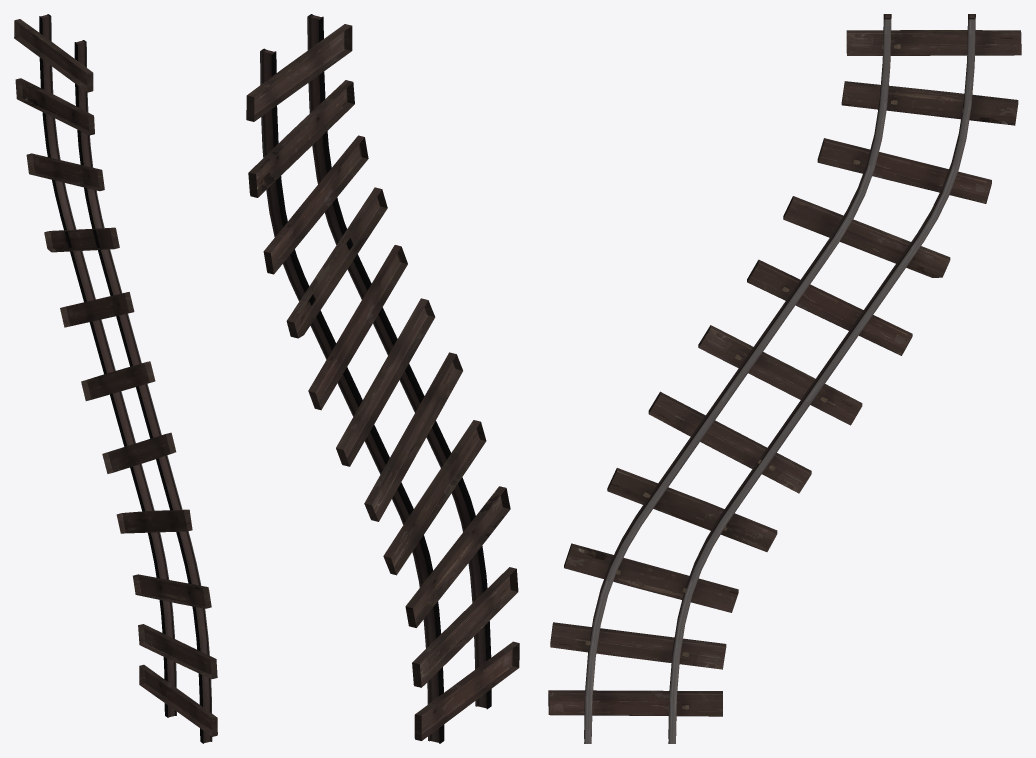
File: props_mining_track_s_curve_96.glb
3 renders of one model, left to right at view 1: azimuth 30°, elevation 25°; view 2: azimuth 150°, elevation 25°; view 3: azimuth 270°, elevation 25°, orthographic. The views are drawn at different scales.
Parts seen in each view (by area): view 1: models/props_mining/track_s_curve_96; view 2: models/props_mining/track_s_curve_96; view 3: models/props_mining/track_s_curve_96.
Boxes of the visible parts, bbox=[...] form: models/props_mining/track_s_curve_96: bbox=[14, 14, 217, 743]; models/props_mining/track_s_curve_96: bbox=[246, 14, 519, 743]; models/props_mining/track_s_curve_96: bbox=[548, 14, 1021, 743].
Size of the model in its own units: 6.71 by 256 by 152.
Materials: 1 (1 with a texture image).
